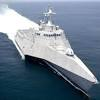tau_muctieu: (18, 18, 100, 96)
